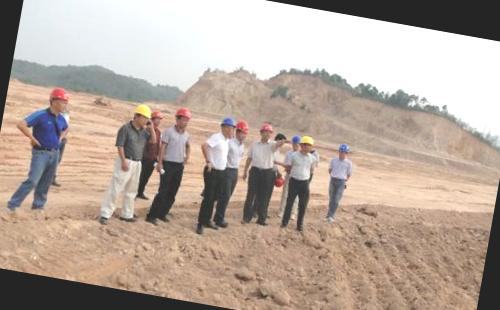no_helmet: (274, 130, 288, 151)
